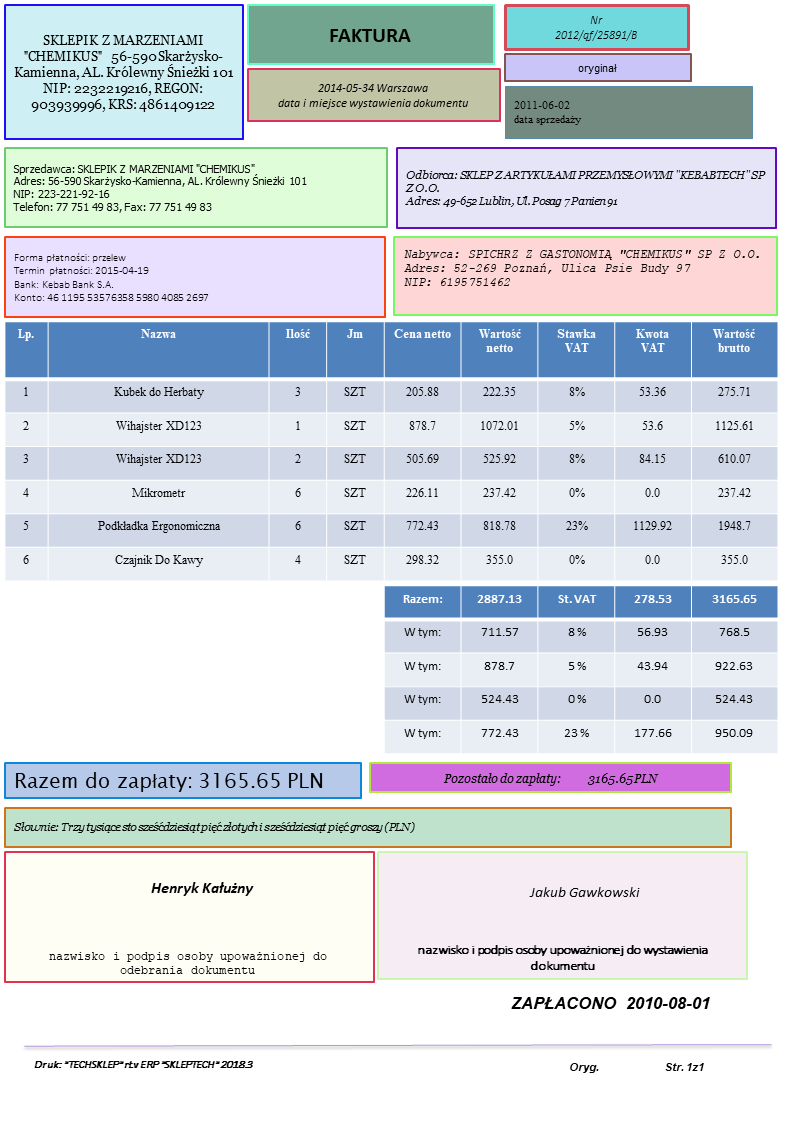Table: (3, 321, 779, 579), (383, 585, 778, 751)
TextBox: (12, 31, 236, 114), (401, 243, 761, 291), (8, 159, 310, 214), (403, 166, 767, 209), (10, 249, 211, 306), (414, 941, 711, 975), (12, 767, 325, 796), (46, 947, 331, 977), (11, 817, 417, 837), (276, 79, 470, 111), (440, 768, 659, 788), (509, 993, 713, 1014), (30, 1056, 256, 1073), (552, 10, 639, 43), (566, 1057, 706, 1076), (510, 97, 586, 127), (148, 877, 256, 898), (527, 882, 640, 901), (325, 23, 414, 46), (573, 61, 620, 77)
